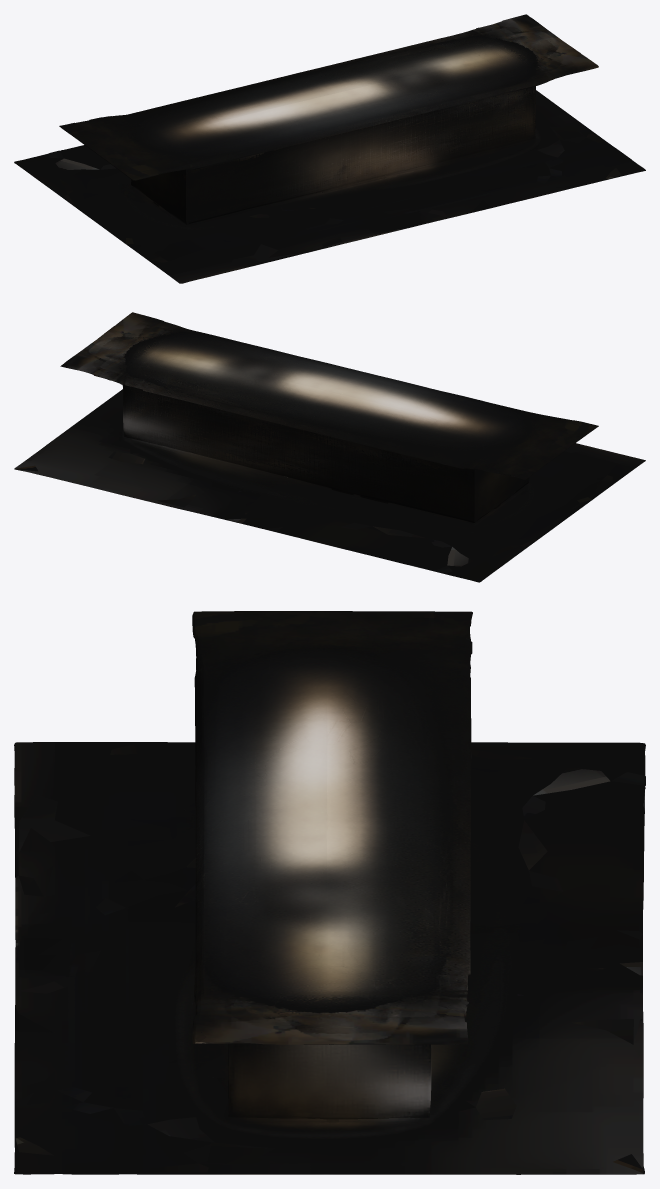
The picture shows the model from 3 angles, top to bottom: view 1: azimuth 30°, elevation 25°; view 2: azimuth 150°, elevation 25°; view 3: azimuth 270°, elevation 25°; orthographic projection. The views are drawn at different scales.
Parts seen in each view (by area): view 1: world; view 2: world; view 3: world.
Boxes of the visible parts, box(x1,y1,x2,y2) form: world: box(14, 14, 645, 283); world: box(14, 312, 645, 582); world: box(14, 611, 645, 1174).
Size of the model in its own units: 1 by 0.1494 by 0.6202.
Materials: 1 (1 with a texture image).
